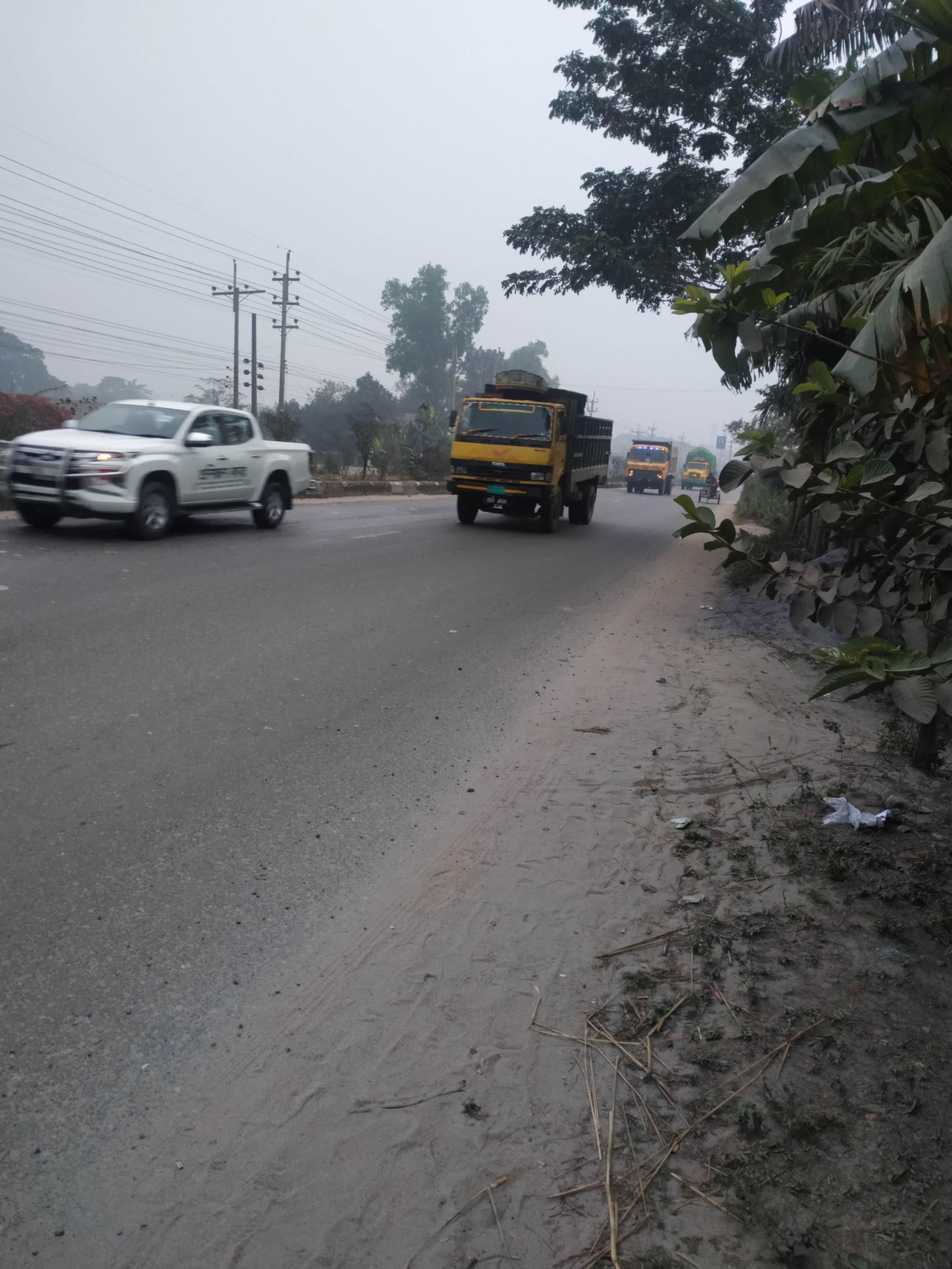Car: (8, 321, 333, 575)
Truck: (428, 350, 631, 566), (621, 425, 684, 500), (682, 443, 734, 509)
